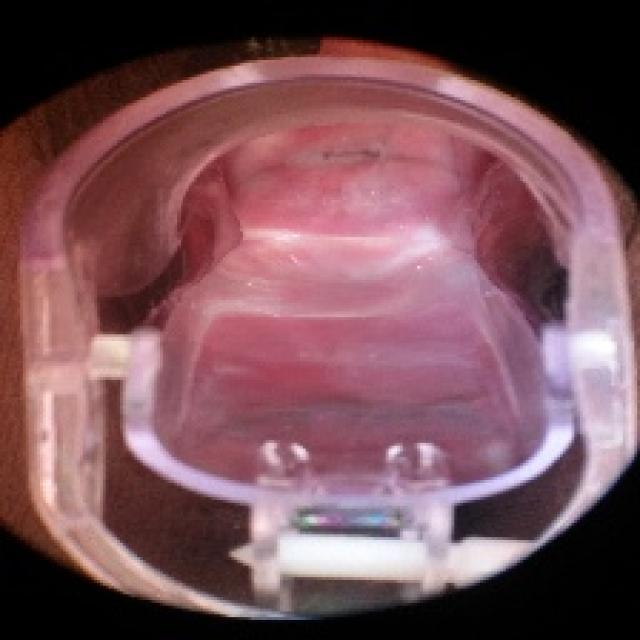type-3: (31, 73, 579, 572)
